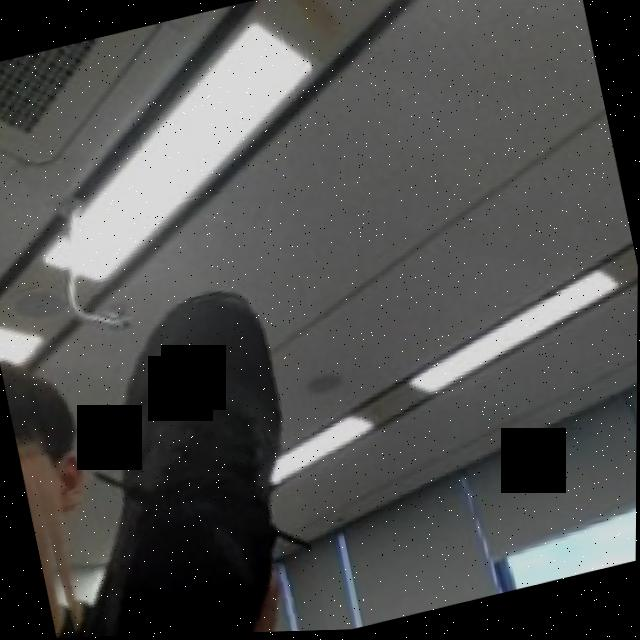shoe: (0, 255, 331, 640)
